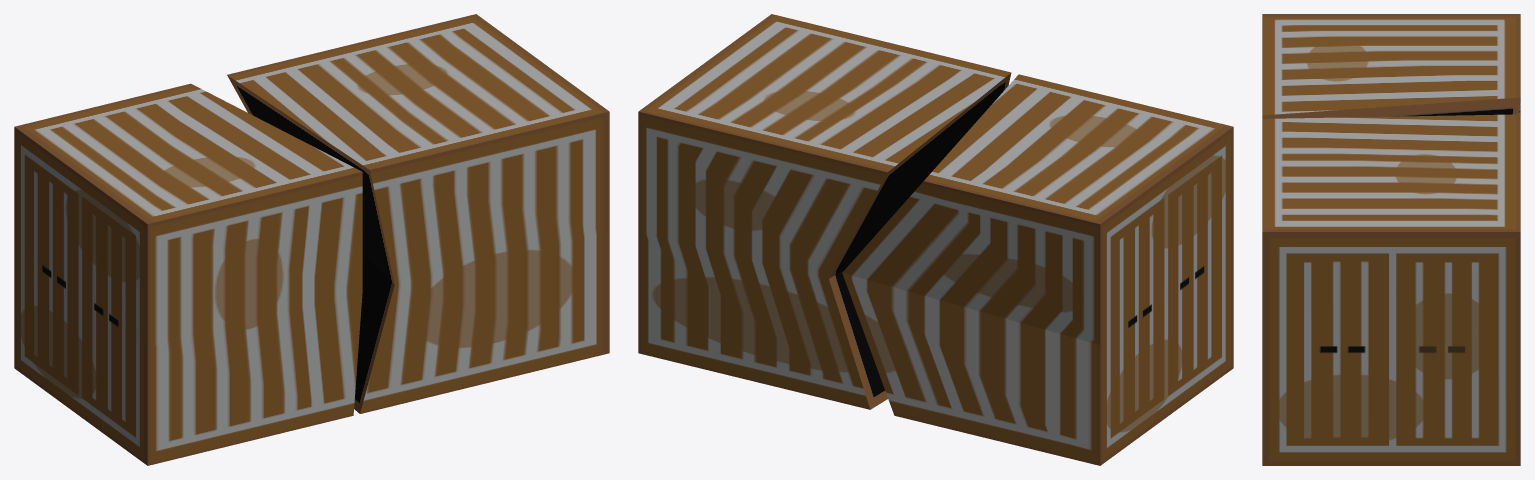
Rendered from container broken 1.fbx.
The picture shows the model from 3 angles, left to right: view 1: azimuth 30°, elevation 25°; view 2: azimuth 150°, elevation 25°; view 3: azimuth 270°, elevation 25°; orthographic projection. The views are drawn at different scales.
Visible parts, largest first — view 1: container broken 1; view 2: container broken 1; view 3: container broken 1.
Part boxes in pixels (left/top/right/bottom): container broken 1: left=14, top=14, right=609, bottom=465; container broken 1: left=638, top=14, right=1233, bottom=465; container broken 1: left=1262, top=14, right=1520, bottom=465.
Size of the model in its own units: 400 by 200 by 200.
